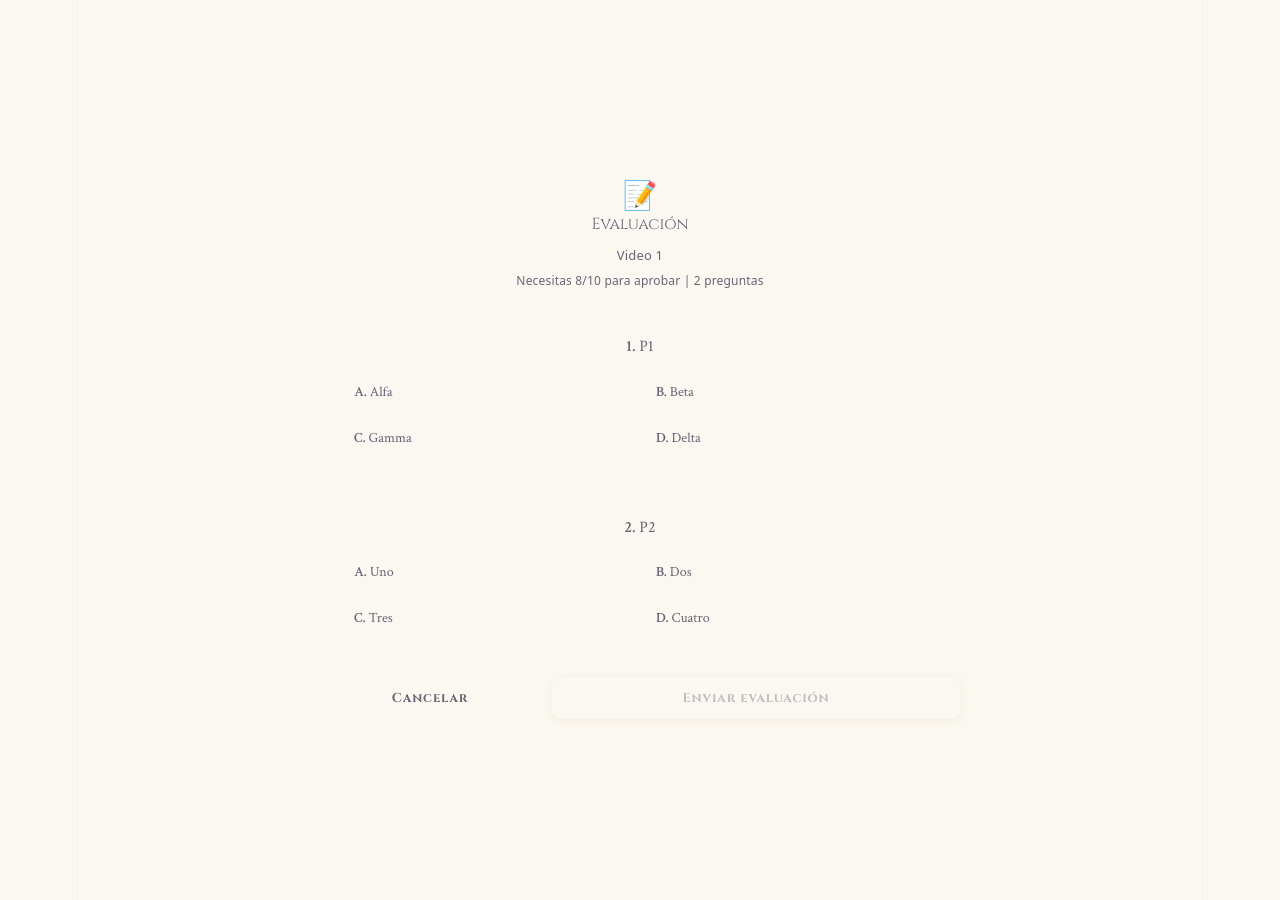
EvalModal › el botón Enviar está deshabilitado hasta responder todo
The width and height of the screenshot is (1280, 900).
expect the button "Enviar evaluación" is disabled: met, box [552,677,960,719]
Click the button "A. Alfa" at point(359, 392), box [342,373,636,411]
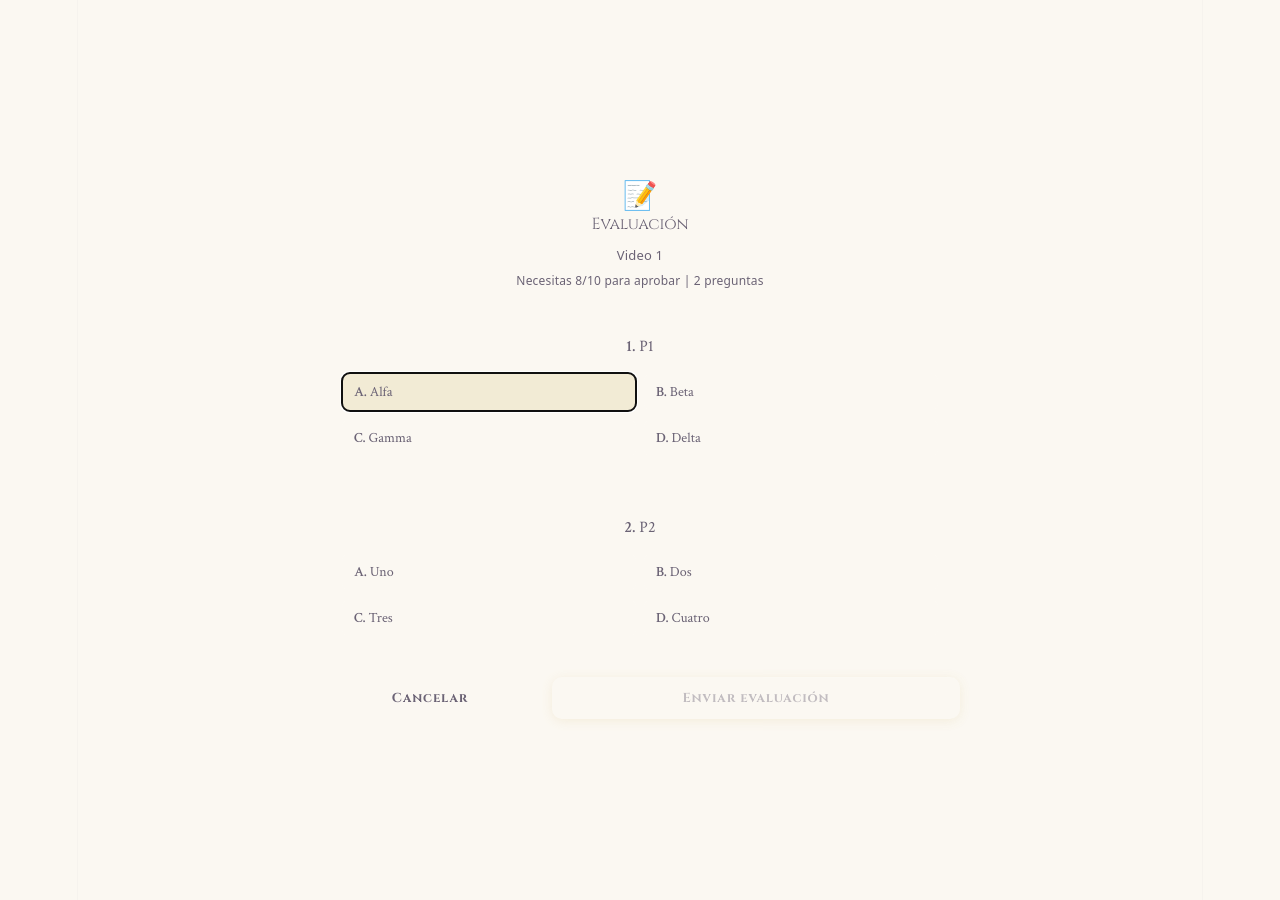
expect the button "Enviar evaluación" is disabled: met, box [552,677,960,719]
Click the button "B. Dos" at point(660, 572), box [644,553,938,591]
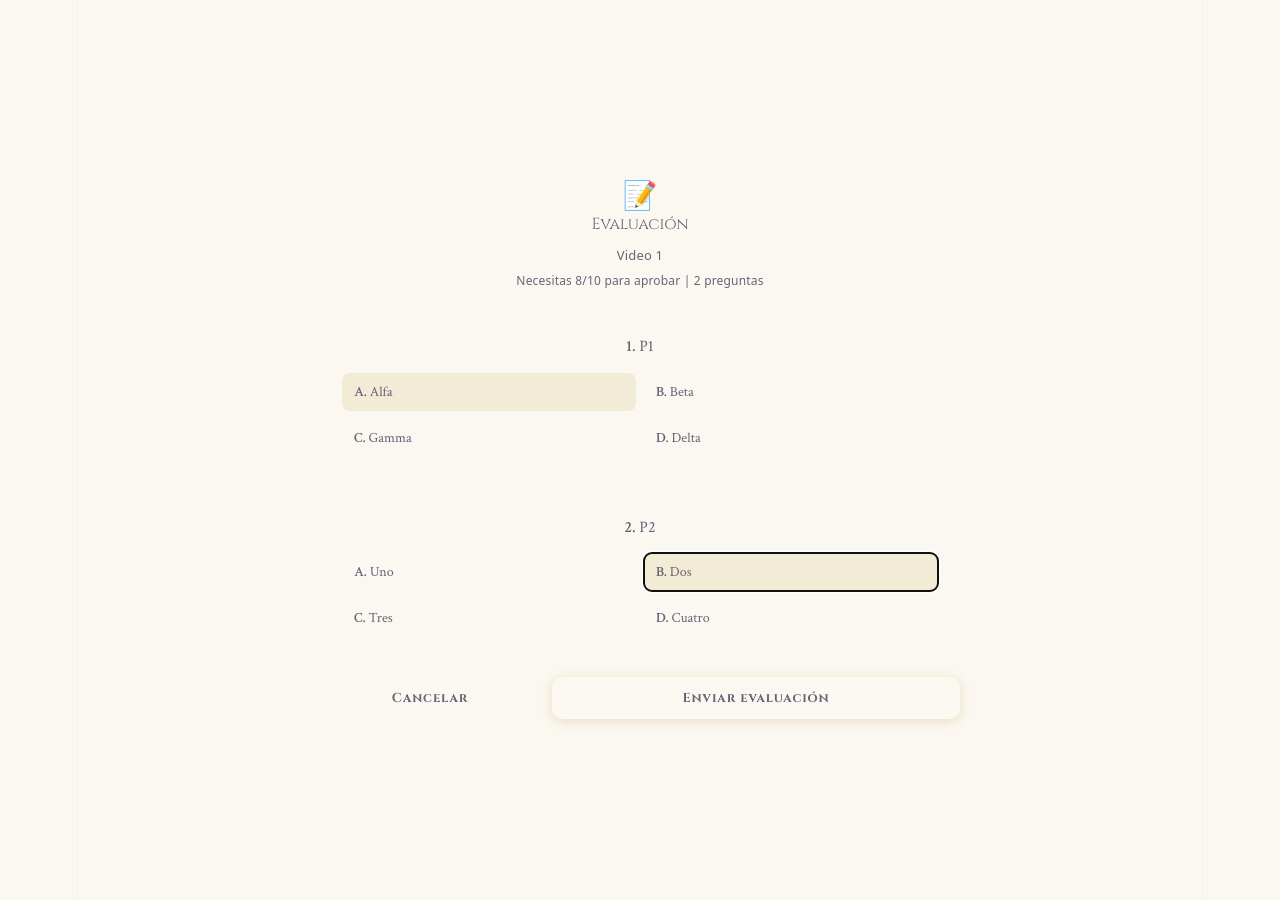
expect the button "Enviar evaluación" is enabled: met, box [552,677,960,719]
